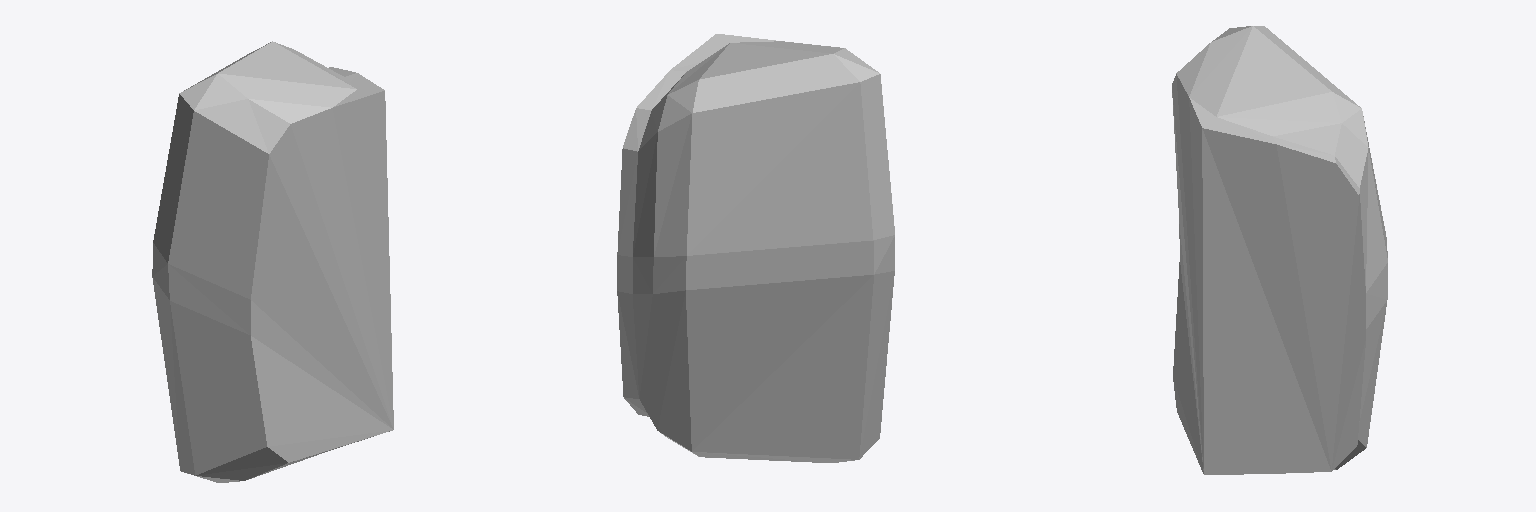
Rendered from bellPepperQuarter.obj.
3 renders of one model, left to right at view 1: azimuth 30°, elevation 25°; view 2: azimuth 150°, elevation 25°; view 3: azimuth 270°, elevation 25°, orthographic.
Visible parts, largest first — view 1: bellPepper_geo; view 2: bellPepper_geo; view 3: bellPepper_geo.
Boxes of the visible parts, box(x1,y1,x2,y2) form: bellPepper_geo: box(152, 41, 393, 482); bellPepper_geo: box(617, 34, 894, 462); bellPepper_geo: box(1172, 26, 1387, 474).
Bounding box in the file's own units: 3.27 × 5.96 × 2.85.